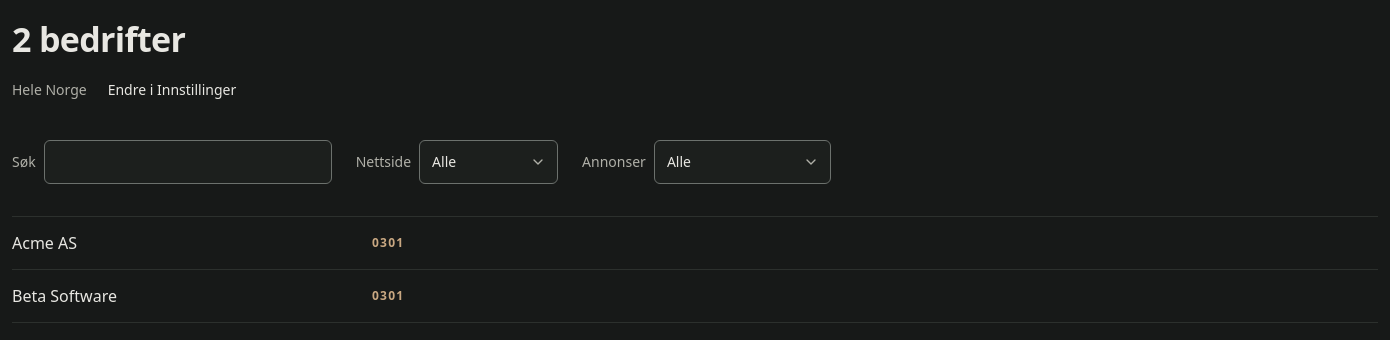
Test: CompaniesView › filters by name search case-insensitively (substring)
Check: the text "Acme AS" is shown, box left=12, top=232, right=77, bottom=254
Step 1. Type "ac" into the search field labelled "Søk" → [188, 162], box left=44, top=140, right=332, bottom=184
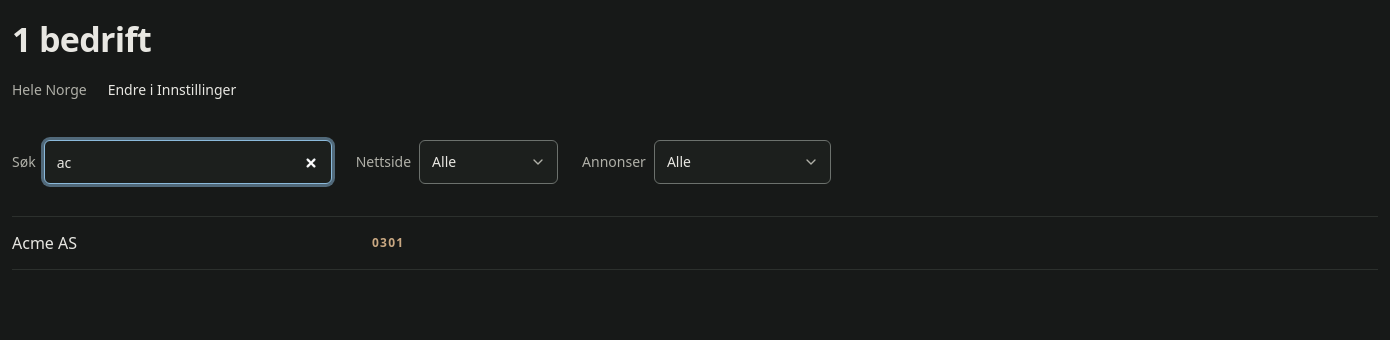
Check: the text "Acme AS" is shown, box left=12, top=232, right=77, bottom=254
Check: the button "Beta Software" is gone
Check: the text "1 bedrift" is shown, box left=12, top=16, right=151, bottom=62
